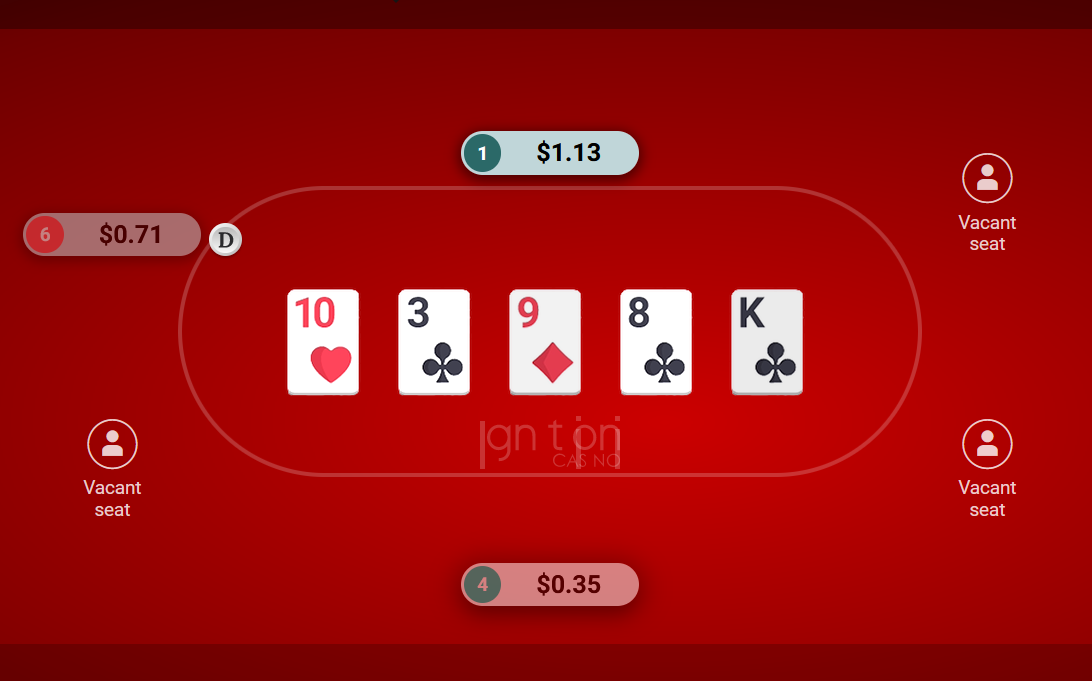10H: (283, 285, 364, 396)
3C: (394, 285, 475, 396)
8C: (616, 285, 697, 396)
9D: (505, 285, 586, 396)
KC: (727, 285, 808, 396)
